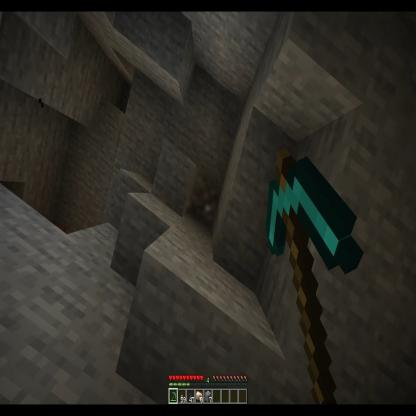iron ore: (186, 168, 218, 232)
